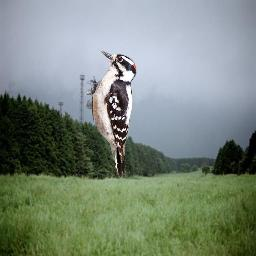Woodpecker: (86, 50, 138, 180)
